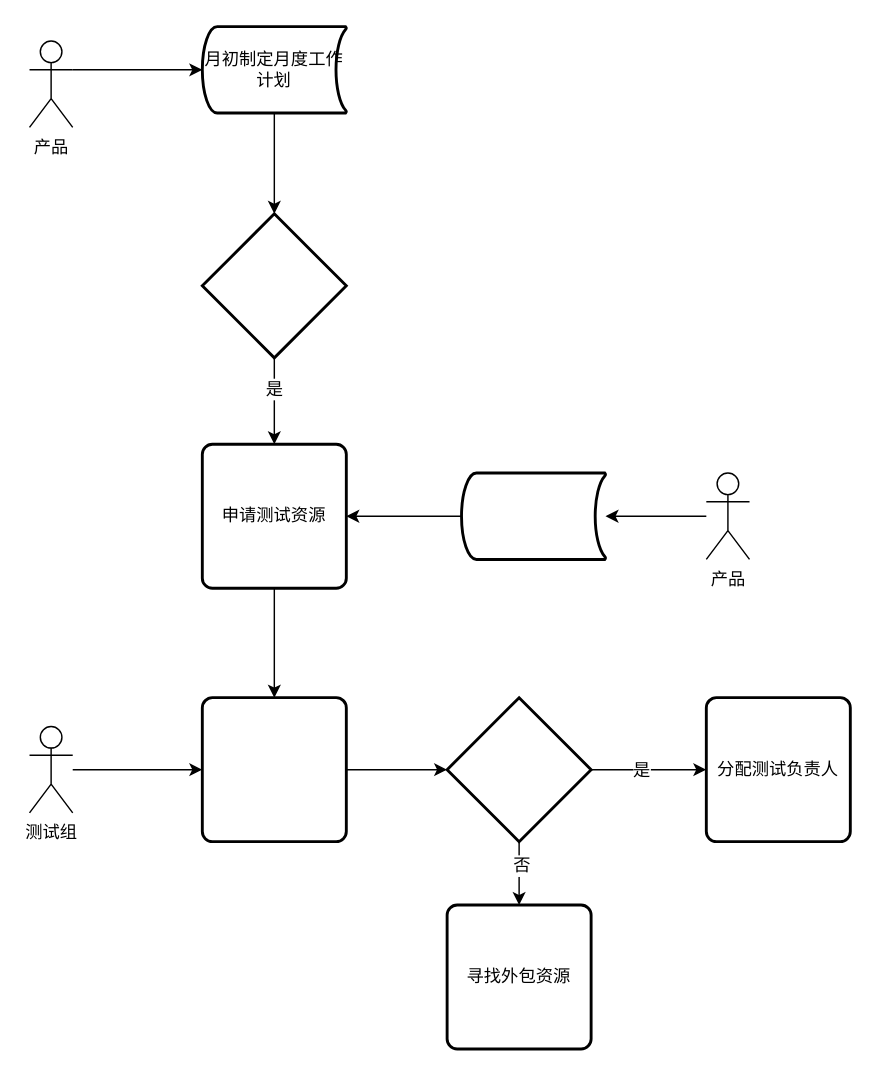
The diagram is 876 pixels wide and 1074 high, and some of its shapes have lost their labels. Here are the shapes that lost their labels. From the top down, the centre of each, then its label:
At point 273,285: "评估是否需要测试资源".
At point 532,515: "临时紧急需求".
At point 273,769: "评估和规划资源".
At point 518,769: "资源可分配".
